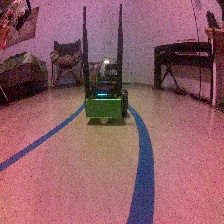rob: (83, 59, 128, 124)
